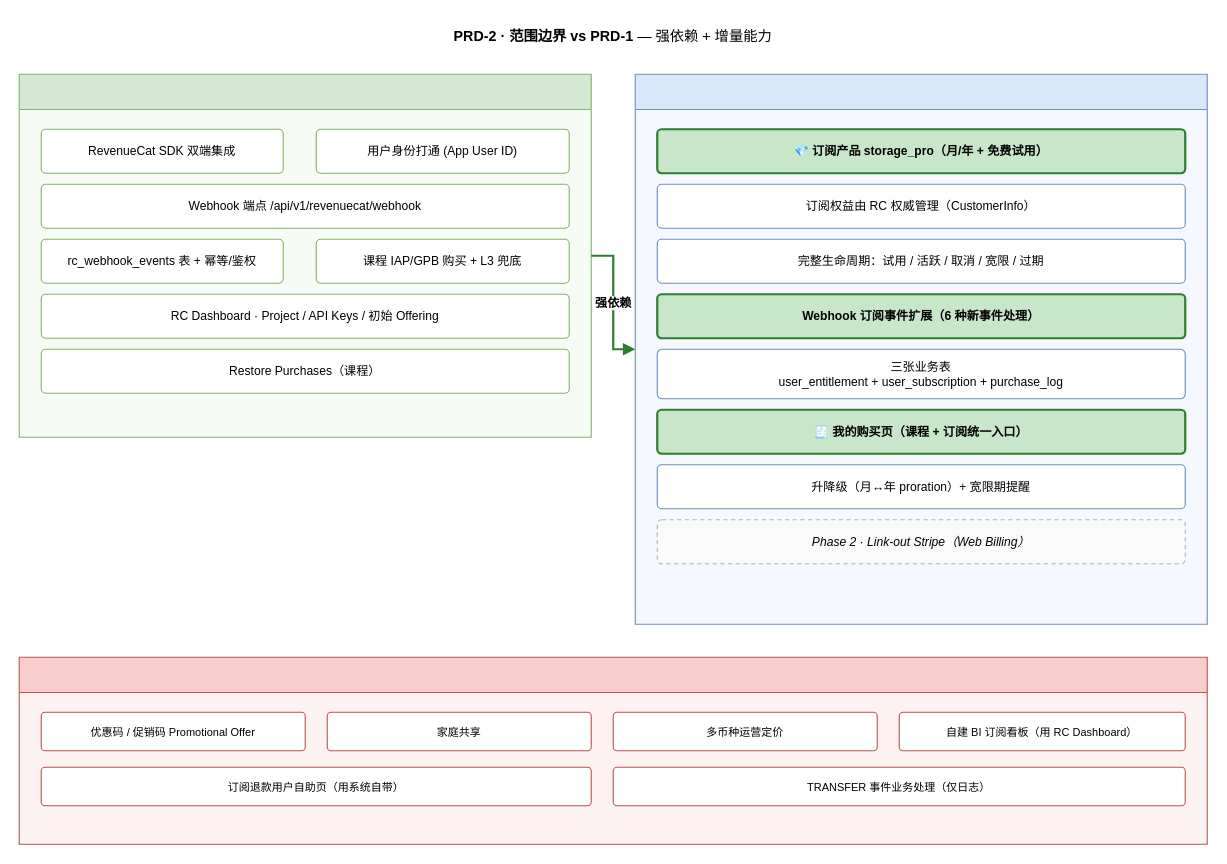
The diagram is 1227 pixels wide and 864 high, and some of its shapes have lost their labels. Each missing label, with the box of its shape:
❌ 不在 PRD-2 范围: (18, 656, 1207, 844)
🆕 PRD-2（本 PRD 增量能力）: (634, 73, 1207, 624)
📦 PRD-1（已交付基础设施）: (18, 73, 591, 437)
